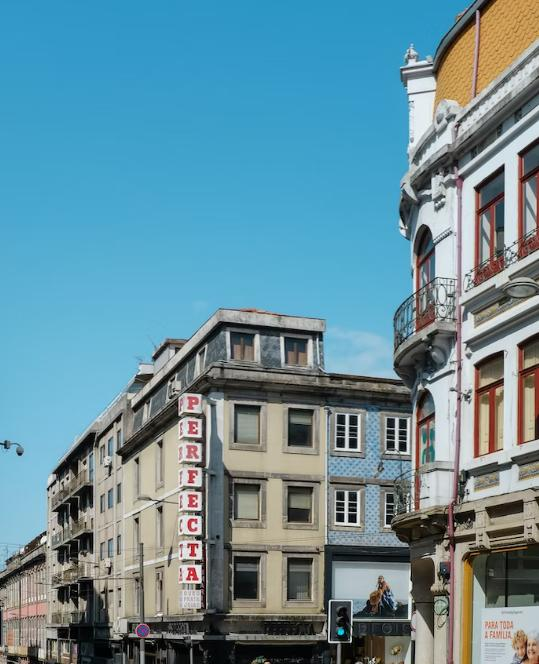green_light: (328, 600, 353, 643)
